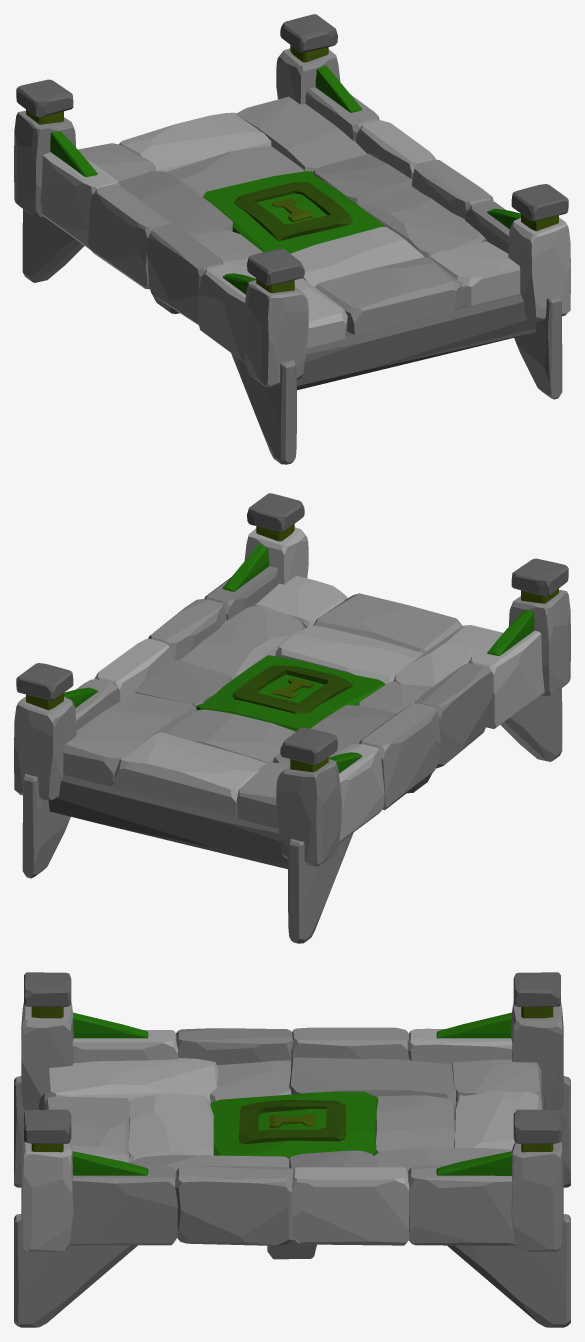
File: Bridge01.fbx
3 renders of one model, top to bottom at view 1: azimuth 30°, elevation 25°; view 2: azimuth 150°, elevation 25°; view 3: azimuth 270°, elevation 25°, orthographic. The views are drawn at different scales.
Parts seen in each view (by area): view 1: LOD0; view 2: LOD0; view 3: LOD0.
Boxes of the visible parts, x1,y1,x2,y2 form: LOD0: (14, 14, 570, 464); LOD0: (14, 493, 570, 943); LOD0: (14, 972, 570, 1327).
Size of what is drawn, in the model's own units: 871 by 1296 by 529.
